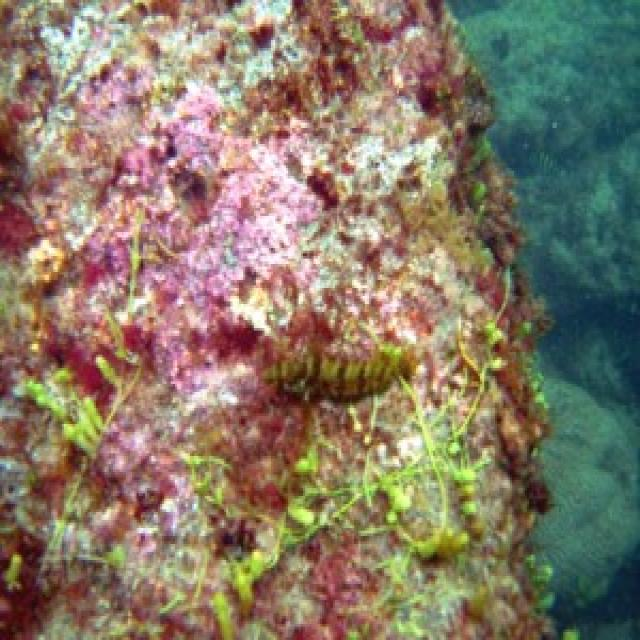Healthy: (1, 1, 554, 638)
